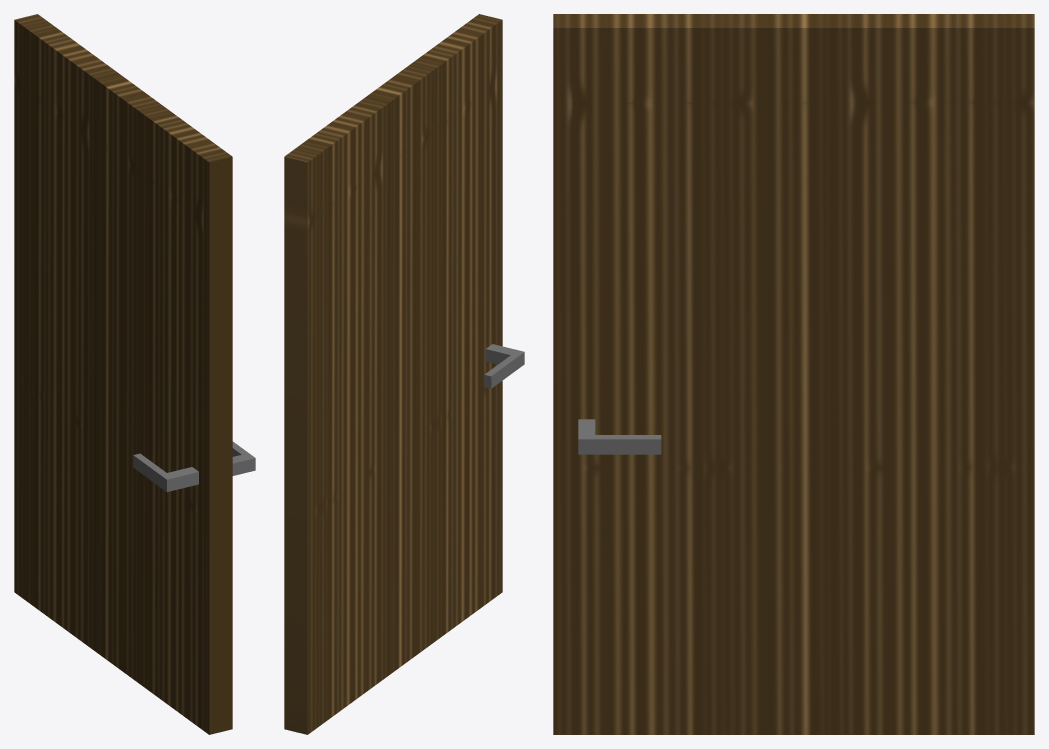
File: lab_drzwi.fbx
3 renders of one model, left to right at view 1: azimuth 30°, elevation 25°; view 2: azimuth 150°, elevation 25°; view 3: azimuth 270°, elevation 25°, orthographic. The views are drawn at different scales.
Visible parts, largest first — view 1: lab_drzwi; view 2: lab_drzwi; view 3: lab_drzwi.
Part boxes in pixels (x1,y1,x2,y2): lab_drzwi: (14,14,255,734); lab_drzwi: (284,14,524,734); lab_drzwi: (553,14,1034,734).
Bounding box in the file's own units: 34.74 × 214 × 132.
1 material, 1 textured.
